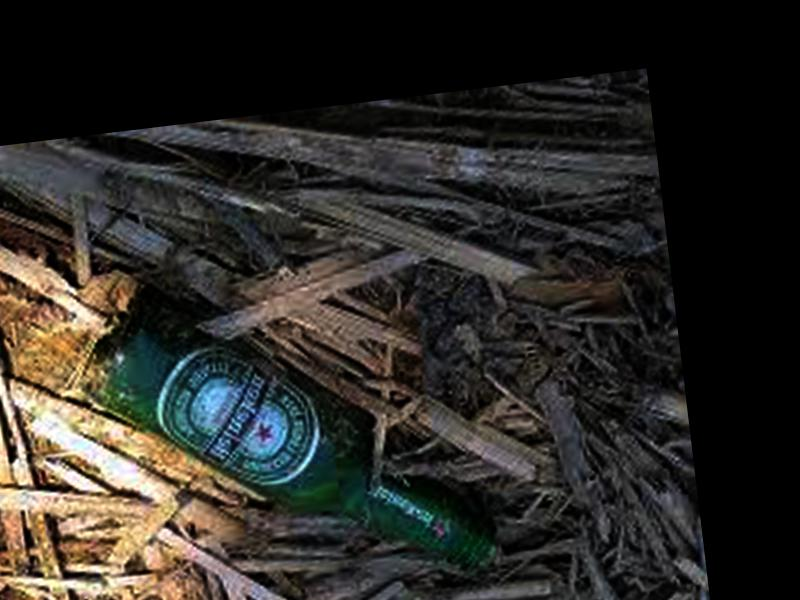Beer: (74, 251, 503, 600)
